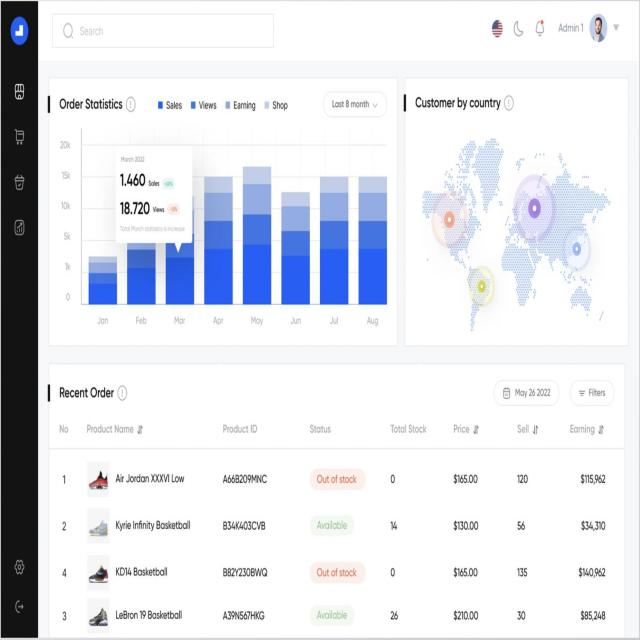button: (494, 379, 560, 408), (570, 379, 614, 407)
input: (52, 13, 274, 49)
